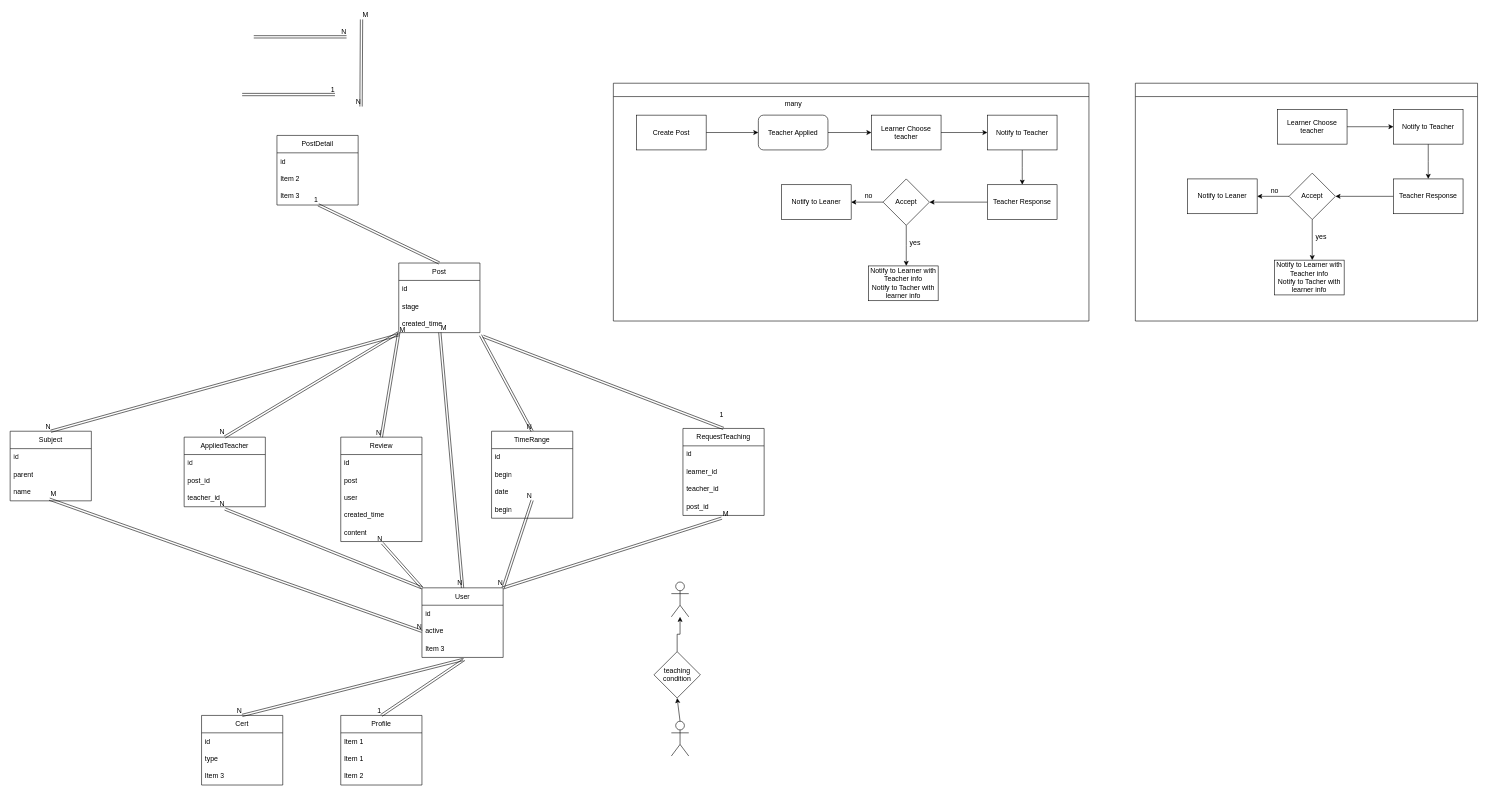
Some shapes in this 1488 by 795 pixel diagram are drawn without their labels. Each missing label, with the centre of its shape:
"learner" belongs at [680,738].
"regular flow" belongs at [851,202].
"request flow" belongs at [1306,202].
"teacher" belongs at [680,599].
